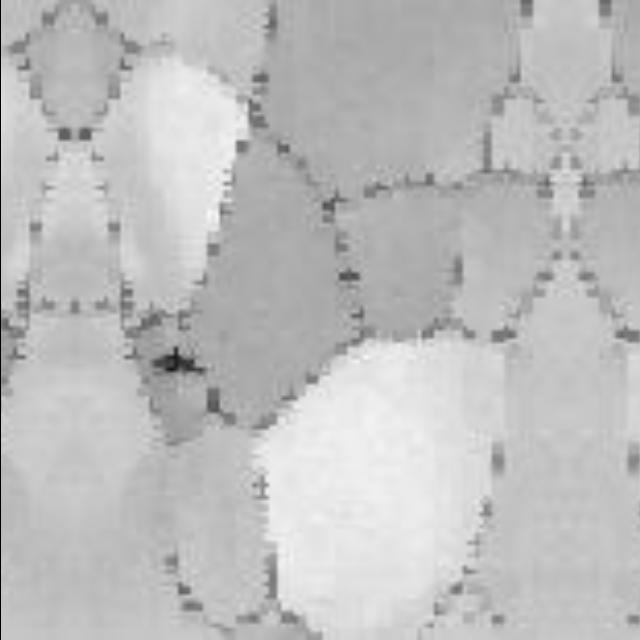good_void: (149, 345, 209, 379)
